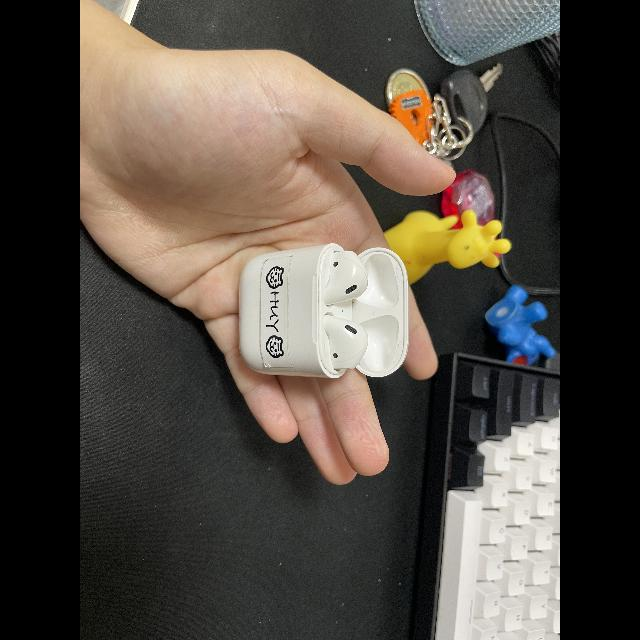airpod2: (234, 239, 412, 385)
